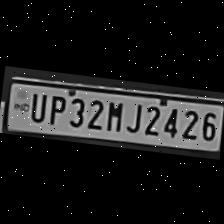2: (138, 100, 162, 136), (177, 104, 200, 140), (83, 94, 105, 130)
3: (62, 91, 86, 128)
4: (158, 101, 181, 137)
6: (196, 106, 219, 141)
J: (122, 98, 143, 133)
M: (100, 95, 125, 131)
P: (43, 89, 67, 125)
U: (25, 88, 48, 122)
